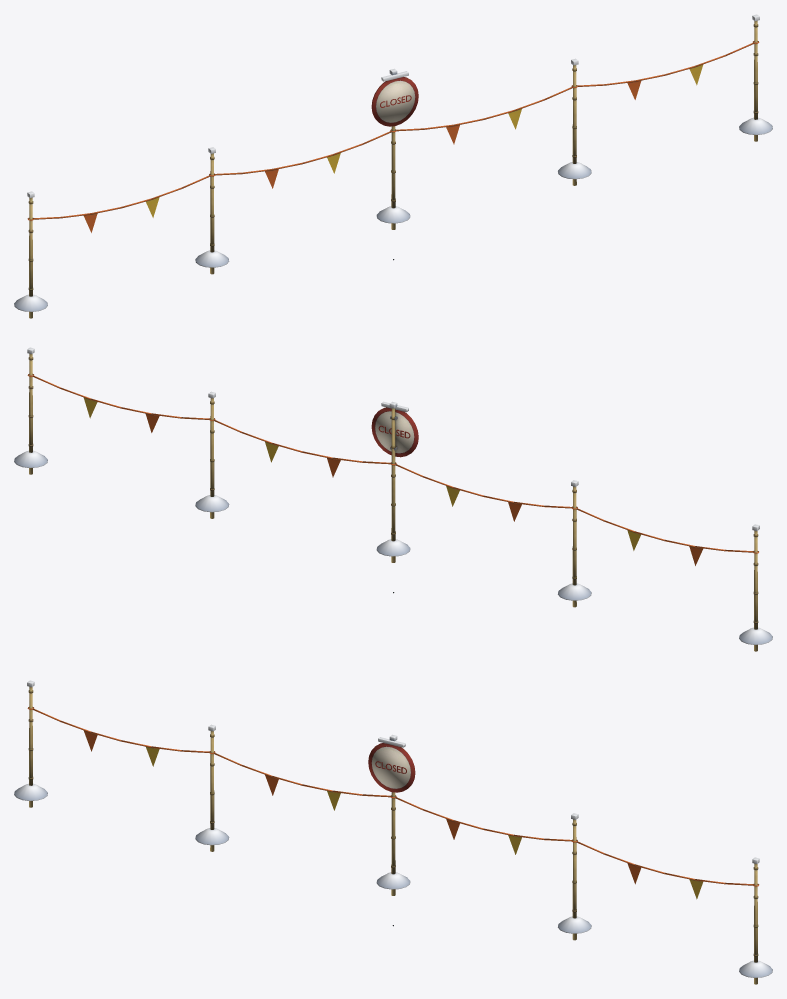
The model's file is rope_line.glb.
3 views of the same model, one above another, from view 1: azimuth 30°, elevation 25°; view 2: azimuth 150°, elevation 25°; view 3: azimuth 330°, elevation 25° (orthographic).
Visible parts, largest first — view 1: rope_line, rope_line_snow; view 2: rope_line, rope_line_snow; view 3: rope_line, rope_line_snow.
Boxes of the visible parts, x1,y1,x2,y2 form: rope_line: (27, 20, 759, 318); rope_line_snow: (14, 14, 772, 311); rope_line: (27, 353, 758, 651); rope_line_snow: (14, 347, 772, 644); rope_line: (27, 686, 759, 984); rope_line_snow: (14, 680, 772, 977).
Bounding box in the file's own units: 10.4 × 2.5 × 0.4114.
3 materials, 1 textured.
